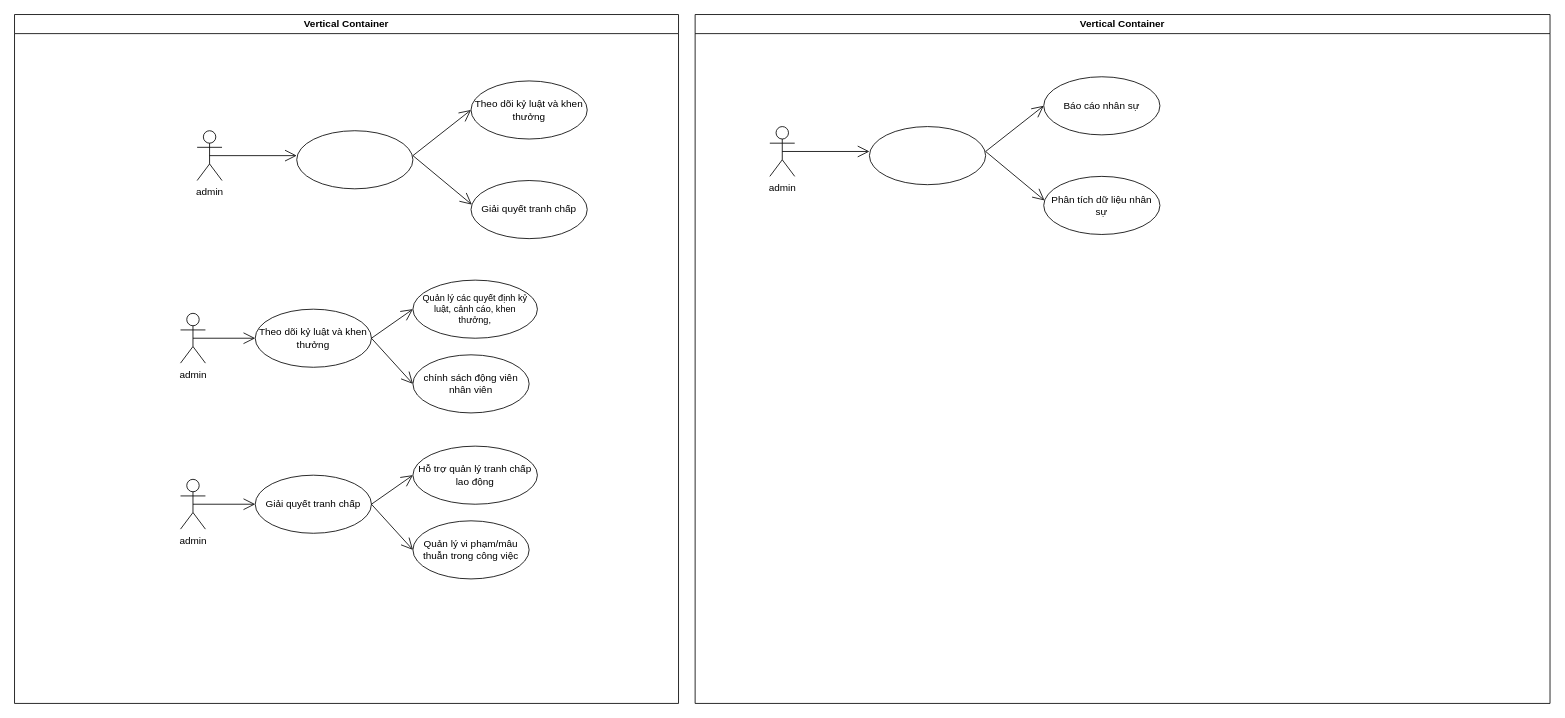
Some shapes in this 1565 by 718 pixel diagram are drawn without their labels. The shapes that lost their labels are listed below. From the top down, each one's centre as x and y in pixels, then its label:
At pixel 354 159: "Quản lý quan hệ lao động".
At pixel 927 155: "Báo cáo và phân tích nhân sự".
